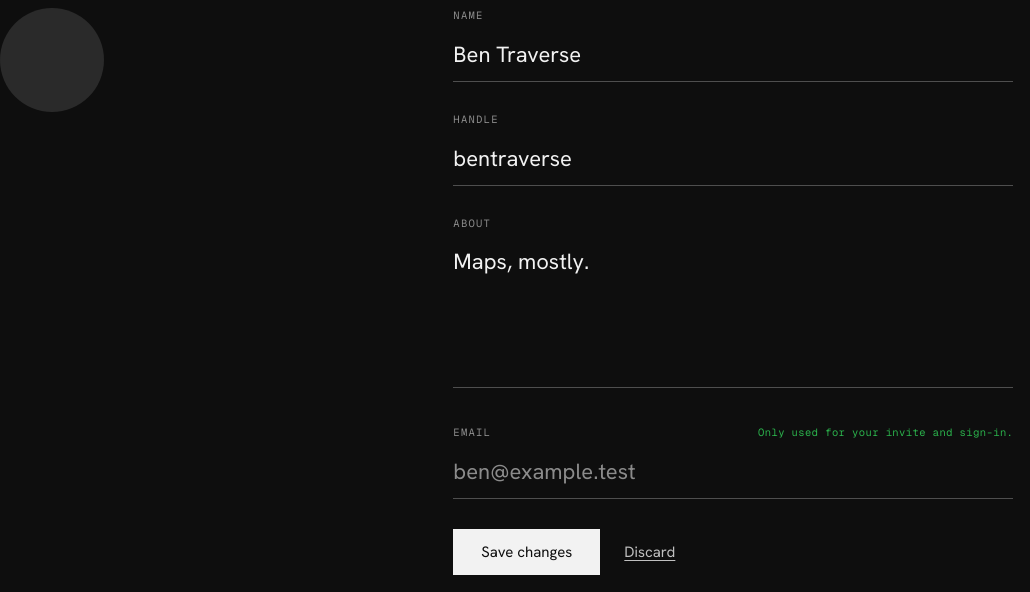
it: ProfileEditScreen › renders a handle conflict under the field and stays put
This screenshot has width=1030, height=592.
Click the button "Save changes": (527, 552) [453, 529, 600, 575]
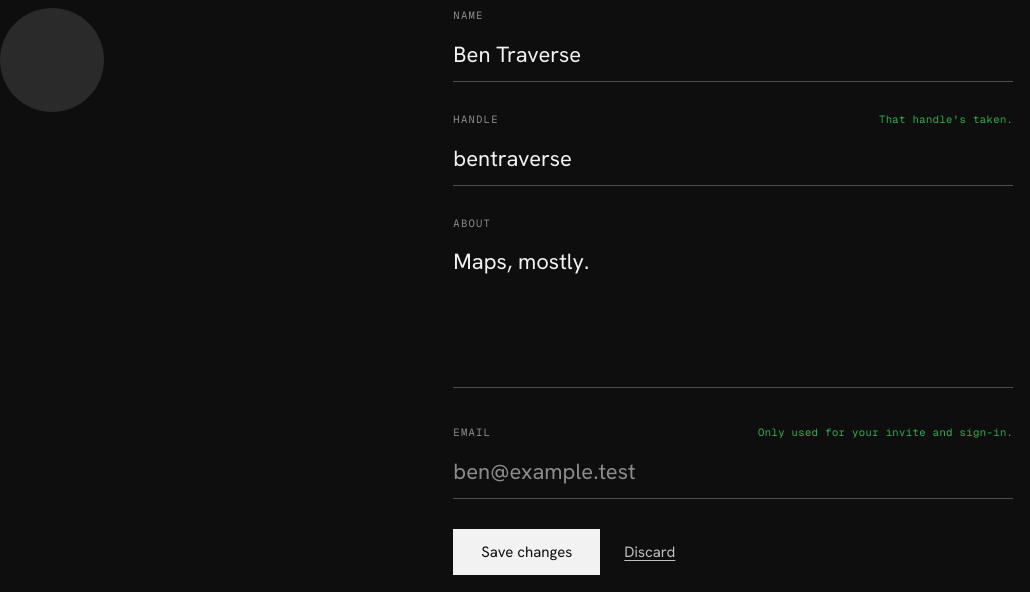
Now the message reads "That handle's taken.", box [879, 112, 1013, 126]
